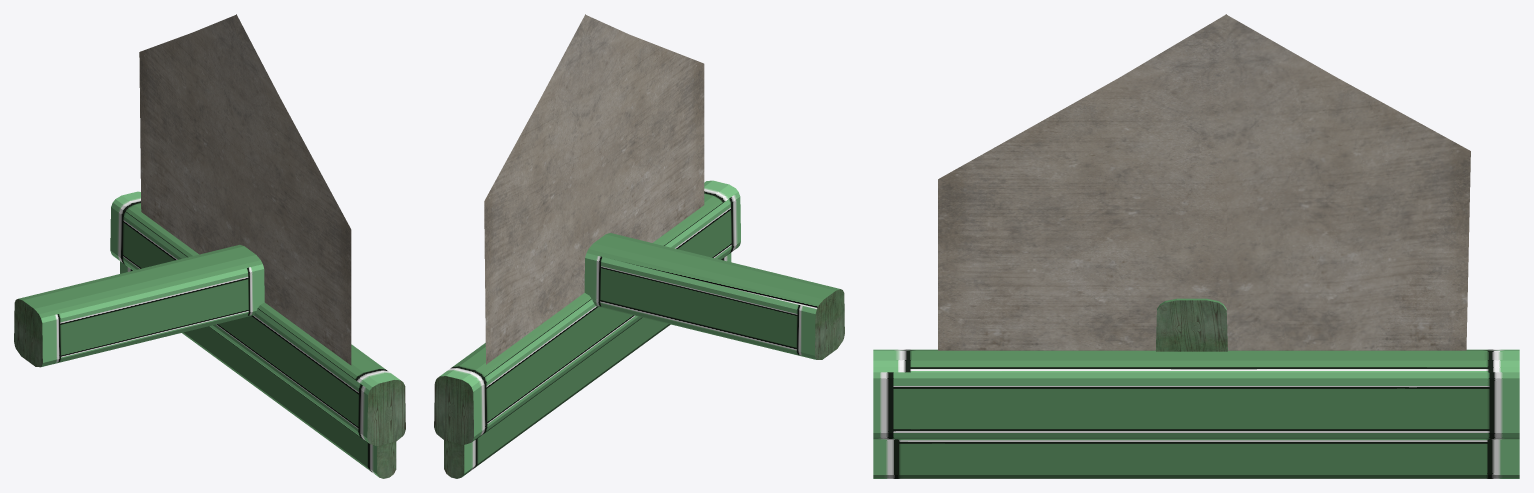
The model's file is SM_R_MiddleBeam_15.fbx.
3 renders of one model, left to right at view 1: azimuth 30°, elevation 25°; view 2: azimuth 150°, elevation 25°; view 3: azimuth 270°, elevation 25°, orthographic. The views are drawn at different scales.
Parts seen in each view (by area): view 1: SM_R_MiddleBeam_15; view 2: SM_R_MiddleBeam_15; view 3: SM_R_MiddleBeam_15.
Boxes of the visible parts, bbox=[...] form: SM_R_MiddleBeam_15: bbox=[14, 14, 405, 478]; SM_R_MiddleBeam_15: bbox=[434, 14, 844, 478]; SM_R_MiddleBeam_15: bbox=[873, 14, 1519, 478].
Bounding box in the file's own units: 137 × 243 × 190.
4 materials, 4 textured.
